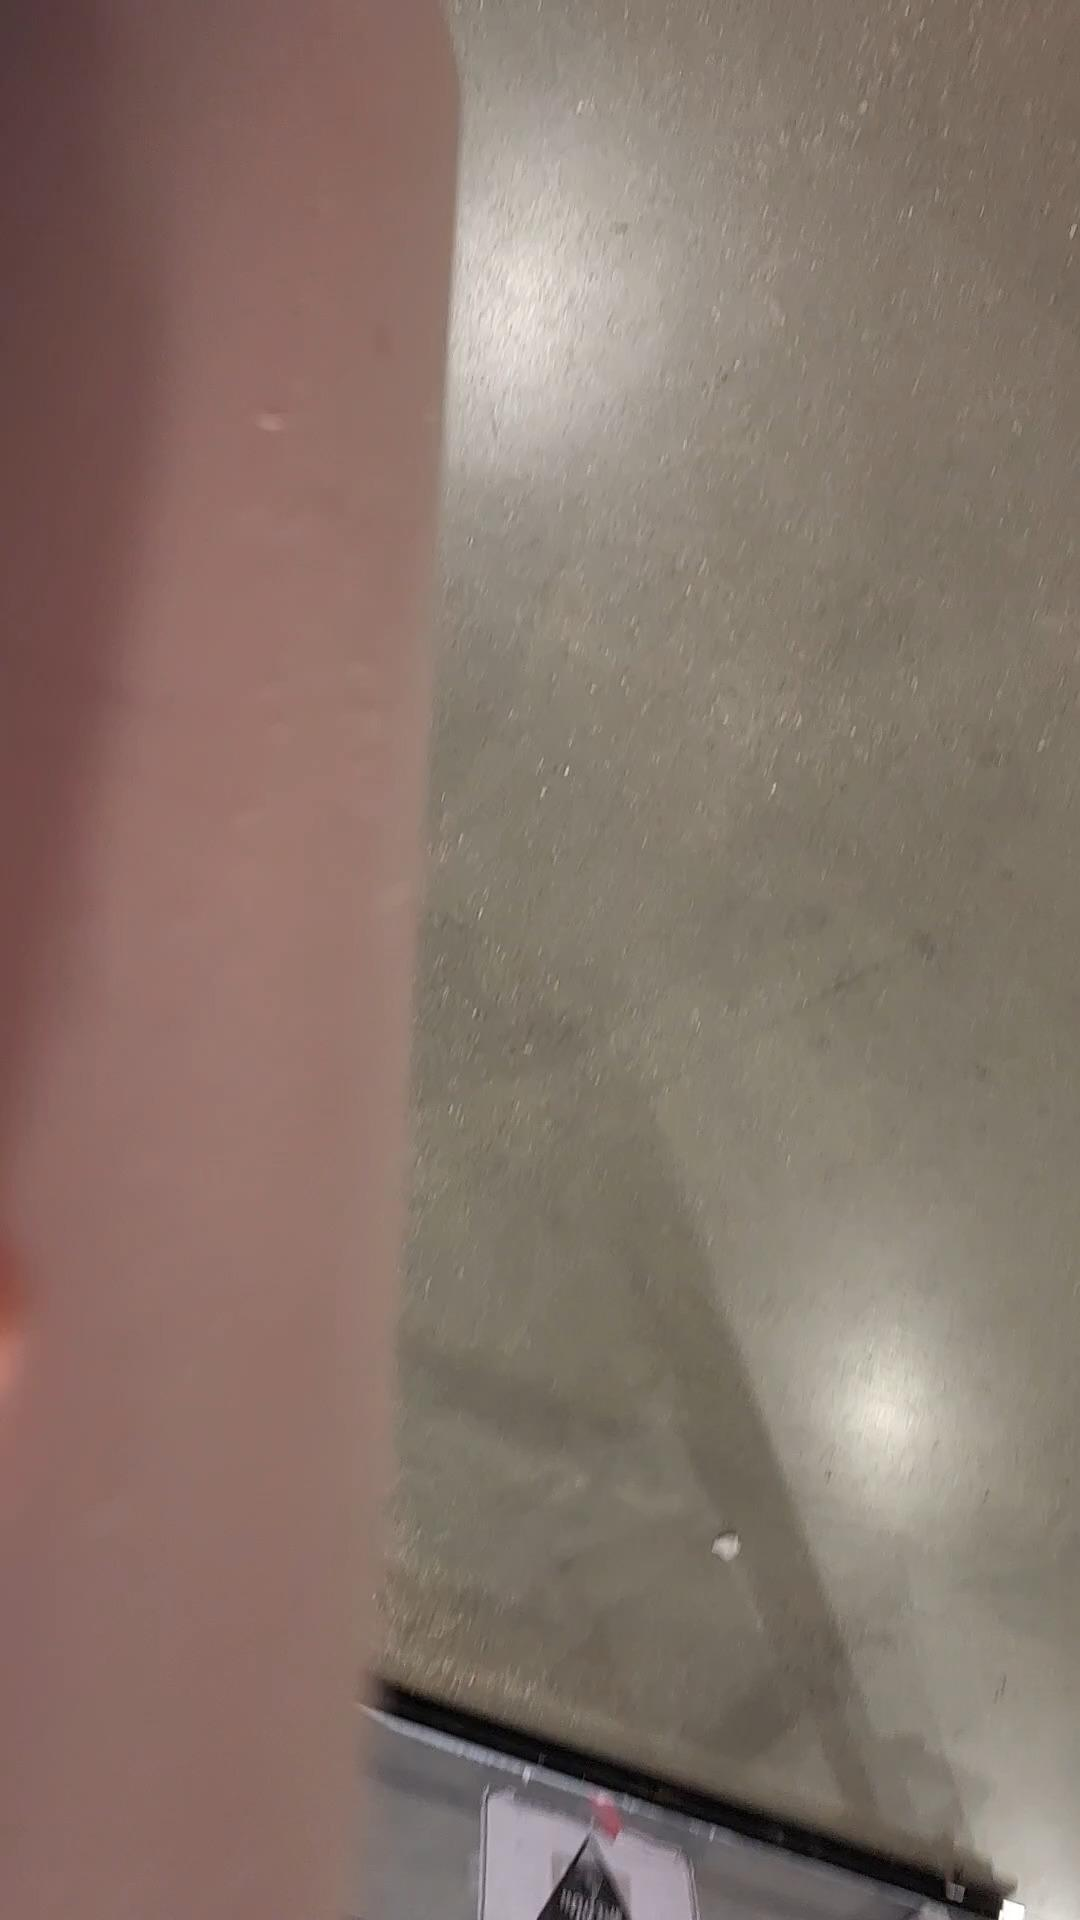coral: (0, 0, 467, 1920)
